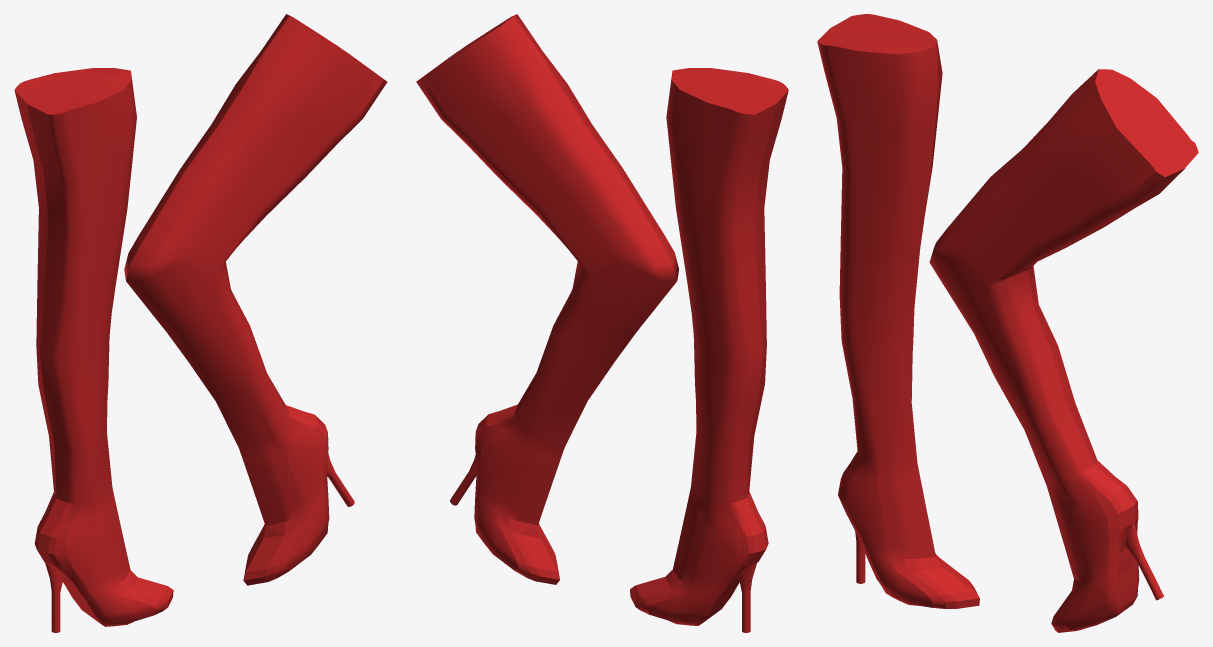
Rendered from mimic_boots.fbx.
The picture shows the model from 3 angles, left to right: view 1: azimuth 30°, elevation 25°; view 2: azimuth 150°, elevation 25°; view 3: azimuth 330°, elevation 25°; orthographic projection. The views are drawn at different scales.
Visible parts, largest first — view 1: polySurface22; view 2: polySurface22; view 3: polySurface22.
Part boxes in pixels (x1=…): polySurface22: x1=14, y1=14, x2=387, y2=632; polySurface22: x1=416, y1=14, x2=788, y2=632; polySurface22: x1=817, y1=14, x2=1198, y2=632.
Size of the model in its own units: 4.41 by 6.8 by 0.9294.
